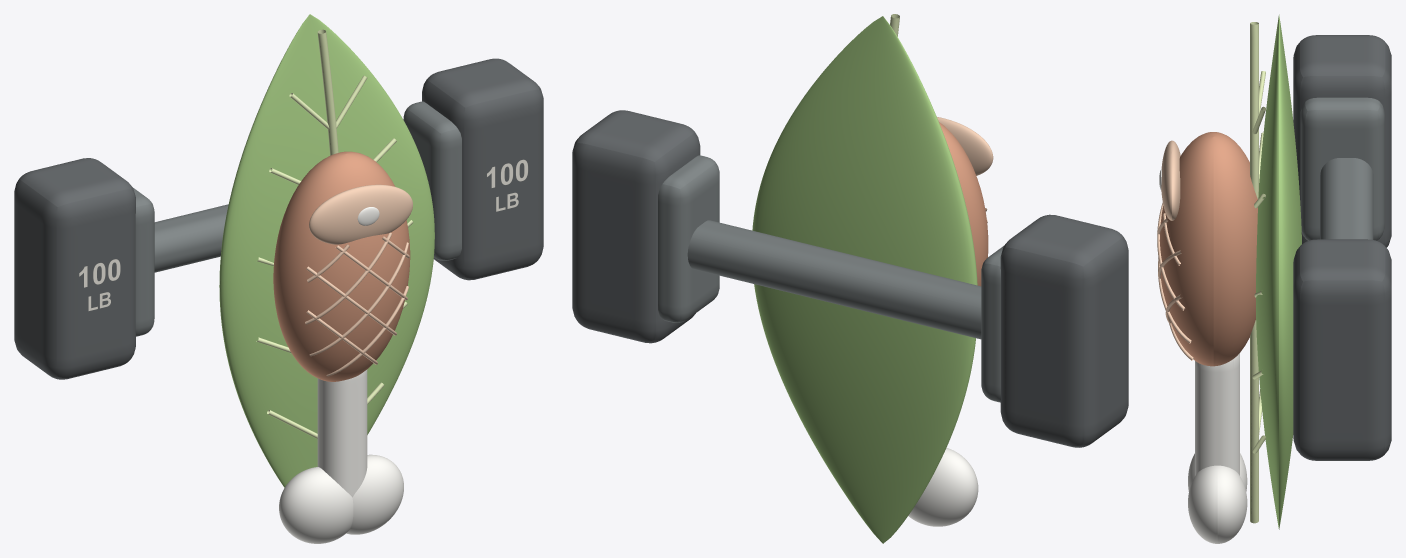
File: threshold-fit-emblem.glb
3 renders of one model, left to right at view 1: azimuth 30°, elevation 25°; view 2: azimuth 150°, elevation 25°; view 3: azimuth 270°, elevation 25°, orthographic. The views are drawn at different scales.
Parts seen in each view (by area): view 1: Leaf, Left outer weight, Roasted ham, Right outer weight, Right inner weight, Bone shaft, Bone left lobe, Ham cut face, Dumbbell handle, Bone right lobe, Left inner weight, 100 LB weight marking (×2) (+1 smaller); view 2: Leaf, Left outer weight, Right outer weight, Dumbbell handle, Right inner weight, Bone left lobe, Left inner weight, Roasted ham, Ham cut face; view 3: Right outer weight, Roasted ham, Leaf, Left outer weight, Left inner weight, Bone shaft, Dumbbell handle, Bone right lobe, Leaf midrib, Ham cut face, Diamond roast scoring, Bone left lobe.
Boxes of the visible parts, x1,y1,x2,y2 form: Leaf: (219, 14, 434, 487); Left outer weight: (14, 158, 135, 379); Roasted ham: (273, 151, 410, 381); Right outer weight: (422, 58, 543, 280); Right inner weight: (403, 101, 461, 260); Bone shaft: (317, 369, 367, 497); Bone left lobe: (279, 467, 353, 543); Ham cut face: (309, 184, 412, 244); Dumbbell handle: (154, 204, 228, 272); Bone right lobe: (346, 454, 403, 534); Left inner weight: (132, 187, 154, 336); 100 LB weight marking (×2): (79, 159, 528, 311); Leaf: (752, 16, 977, 543); Left outer weight: (1000, 214, 1128, 447); Right outer weight: (572, 110, 700, 343); Dumbbell handle: (687, 220, 981, 339); Right inner weight: (658, 155, 719, 322); Bone left lobe: (908, 447, 978, 526); Left inner weight: (981, 246, 1003, 402); Roasted ham: (939, 122, 988, 286); Ham cut face: (937, 117, 993, 175); Right outer weight: (1293, 239, 1391, 460); Roasted ham: (1159, 132, 1257, 366); Leaf: (1256, 14, 1301, 529); Left outer weight: (1293, 35, 1391, 247); Left inner weight: (1300, 97, 1384, 240); Bone shaft: (1195, 353, 1239, 475); Dumbbell handle: (1320, 158, 1373, 239); Bone right lobe: (1188, 465, 1247, 543); Leaf midrib: (1250, 22, 1258, 523); Ham cut face: (1161, 140, 1180, 220); Diamond roast scoring: (1157, 202, 1184, 310); Bone left lobe: (1188, 453, 1247, 491).
Bounding box in the file's own units: 2.88 × 2.78 × 1.14.
Materials: 8 (1 with a texture image).
